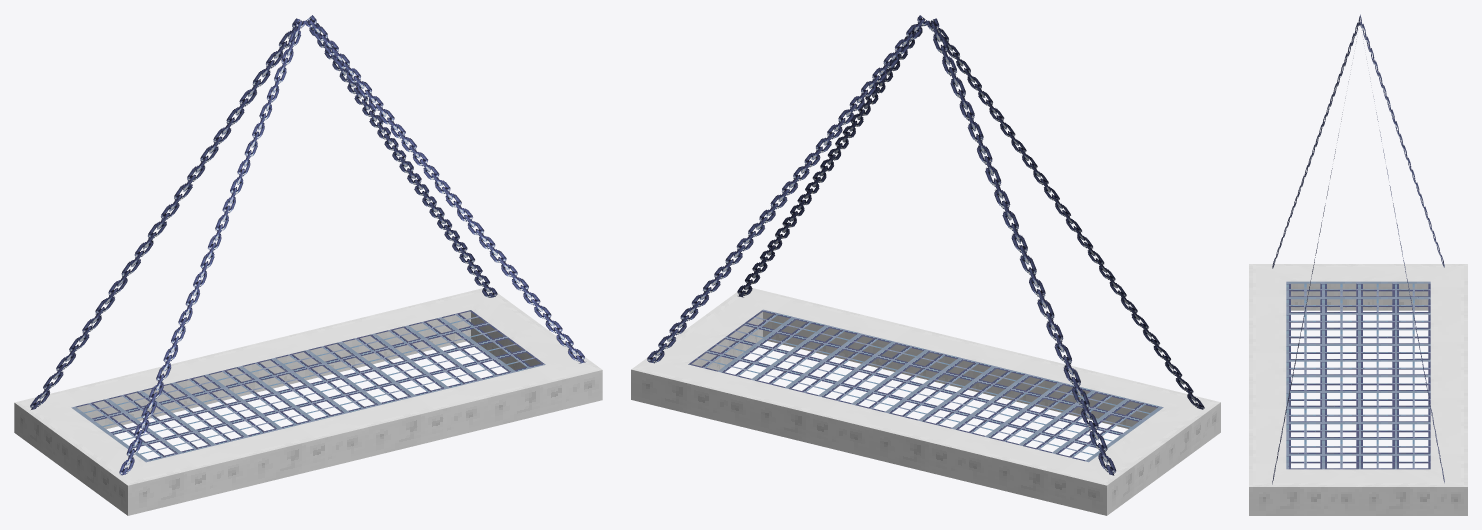
File: CranePlatform.obj
3 renders of one model, left to right at view 1: azimuth 30°, elevation 25°; view 2: azimuth 150°, elevation 25°; view 3: azimuth 270°, elevation 25°, orthographic. The views are drawn at different scales.
Parts seen in each view (by area): view 1: Mesh_Mesh.001_Boat_3; view 2: Mesh_Mesh.001_Boat_3; view 3: Mesh_Mesh.001_Boat_3.
Part boxes in pixels (x1,y1,x2,y2): Mesh_Mesh.001_Boat_3: [14, 15, 602, 515]; Mesh_Mesh.001_Boat_3: [631, 15, 1220, 515]; Mesh_Mesh.001_Boat_3: [1249, 14, 1467, 515].
Size of the model in its own units: 1.28 by 1.03 by 0.5319.
